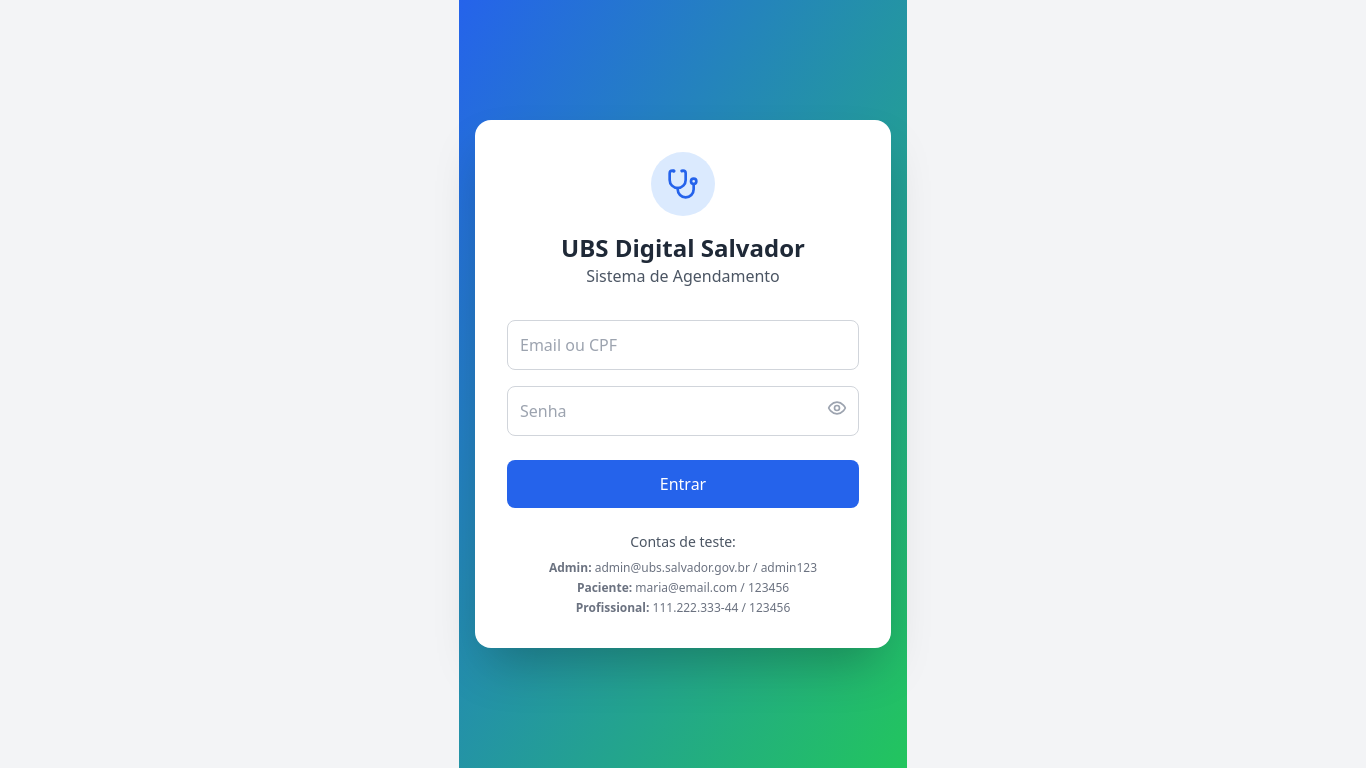
Test: Agendamento de Consultas - UBS Digital Salvador › Agendamento pelo Paciente › Deve permitir navegar para trás no fluxo
Type "maria@email.com" into the field with test id "input-email".
click(683, 345); type("maria@email.com")  # box [507,320,859,370]
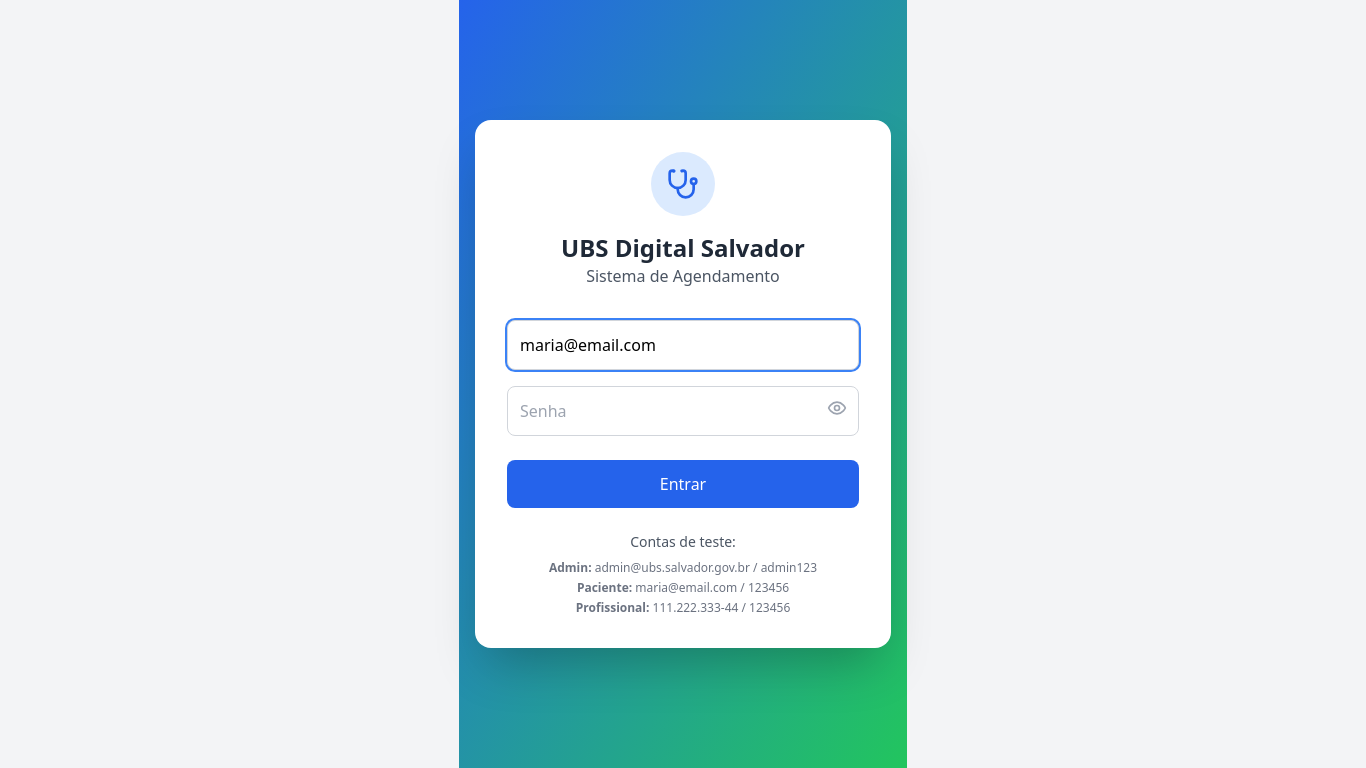
Type "123456" into the password field with test id "input-password".
click(683, 411); type("123456")  # box [507,386,859,436]
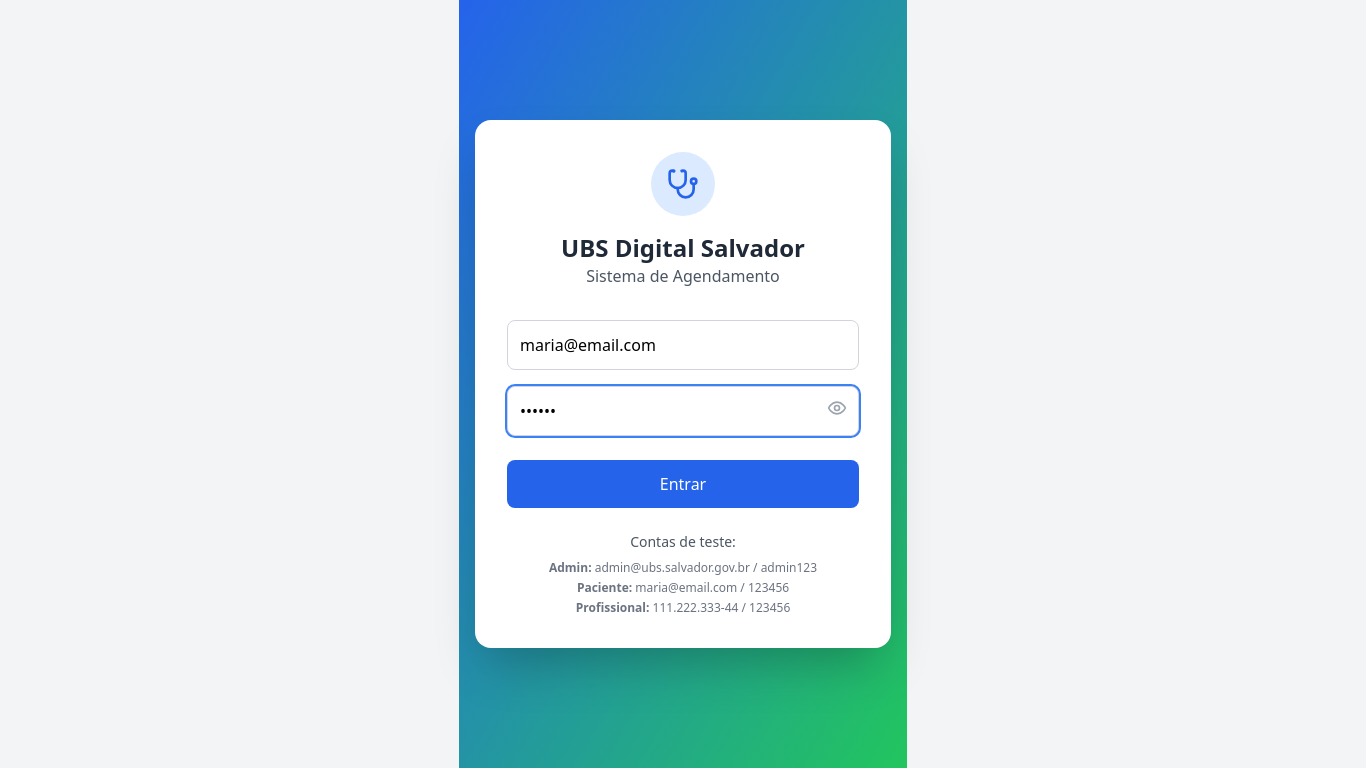
Click the button with test id "btn-login".
click(683, 484)  # box [507,460,859,508]
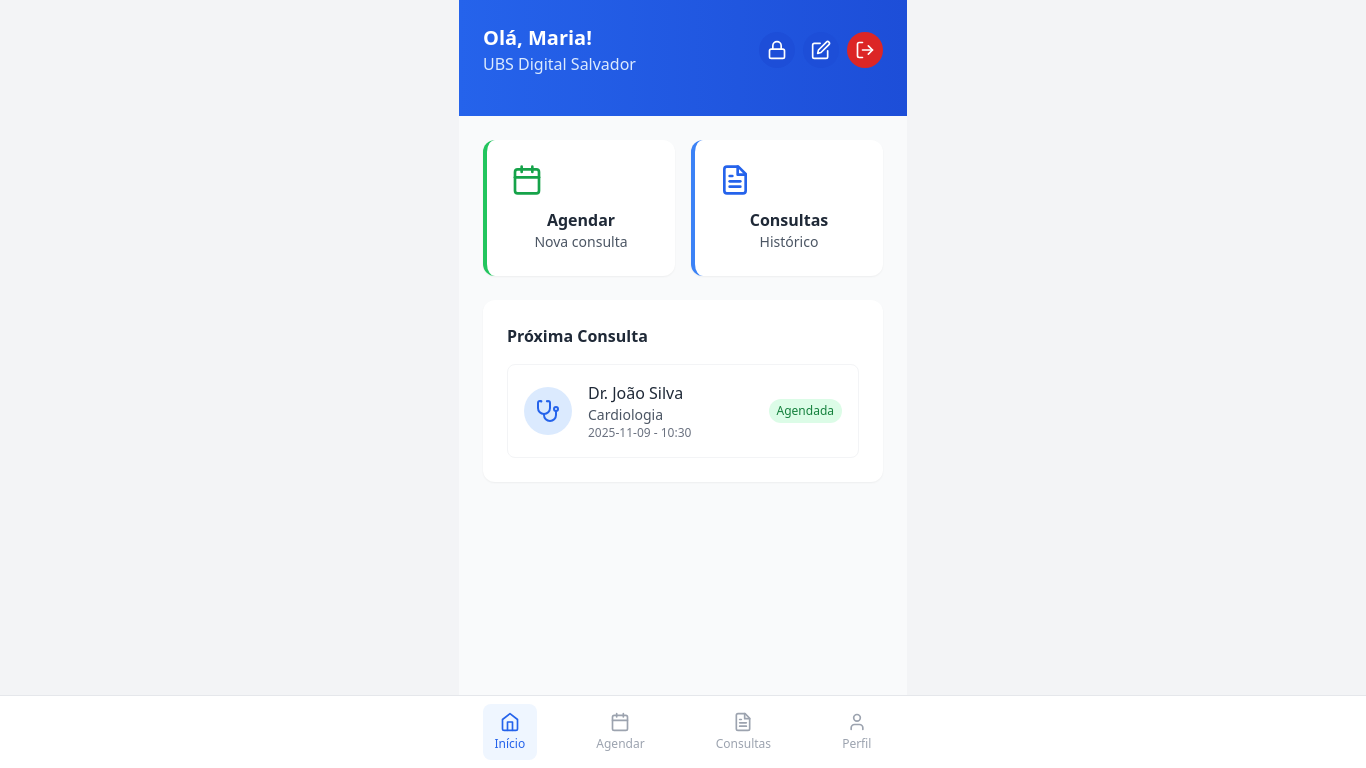
Now the heading "Olá, Maria!" is shown, box [483,24,592,51]
Click the button with test id "btn-schedule".
click(579, 208)  # box [483,140,675,276]
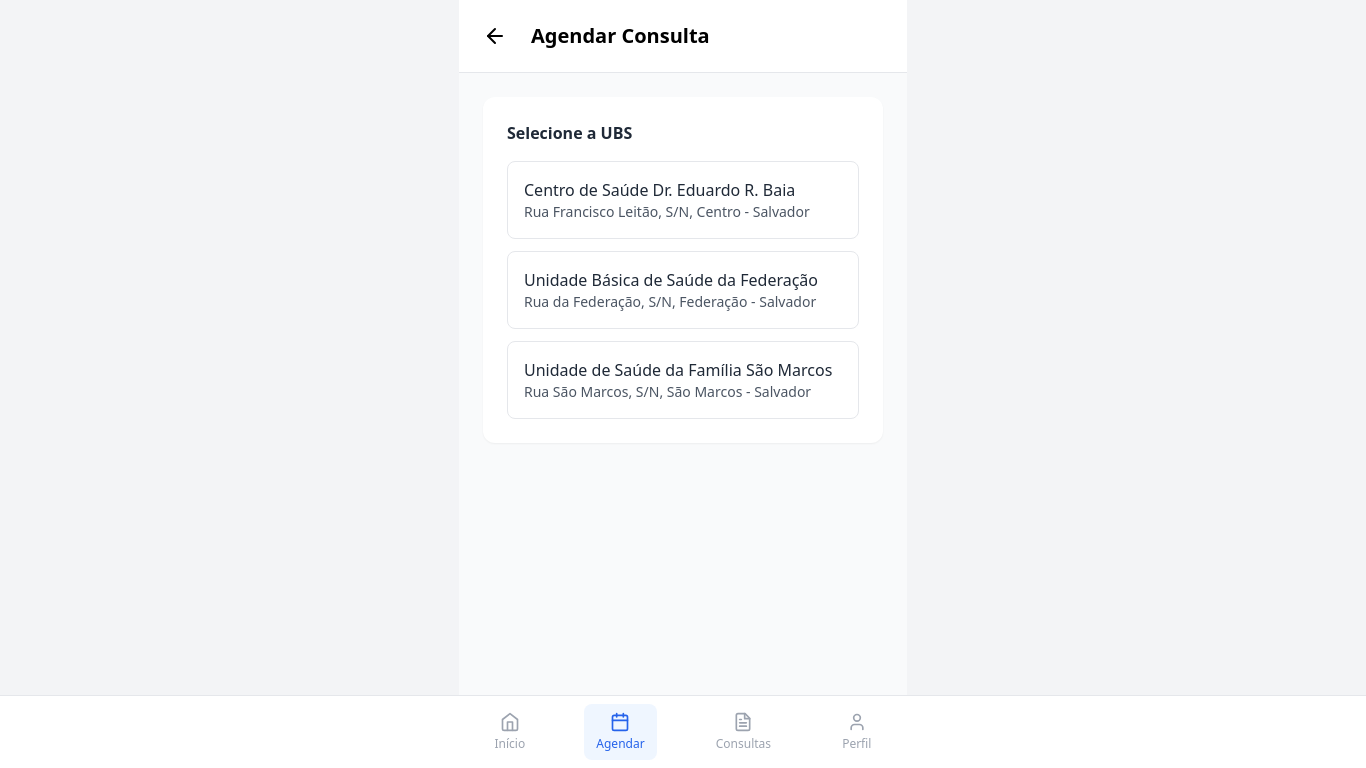
Click the button "Unidade Básica de Saúde da Federação".
click(683, 290)  # box [507,251,859,329]
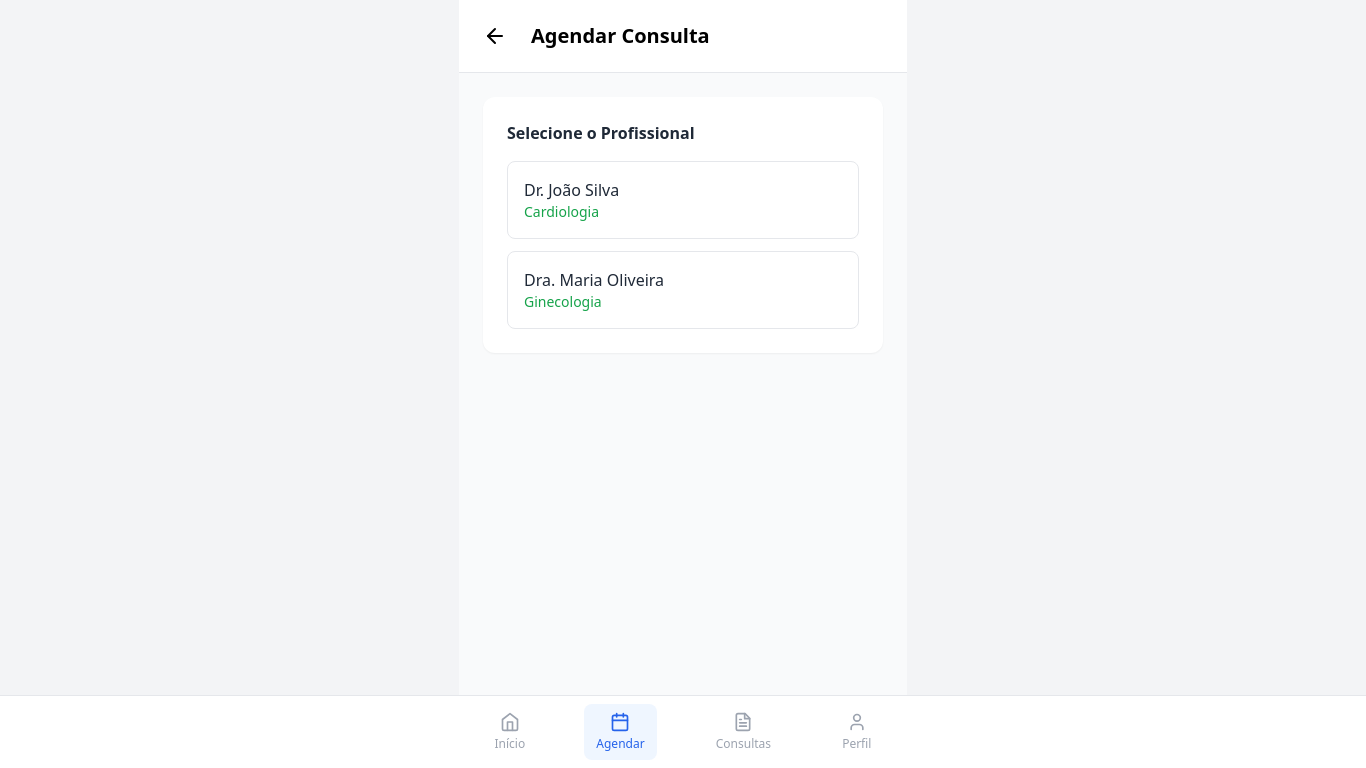
Click the 1st button.
click(495, 36)  # box [475,16,515,56]
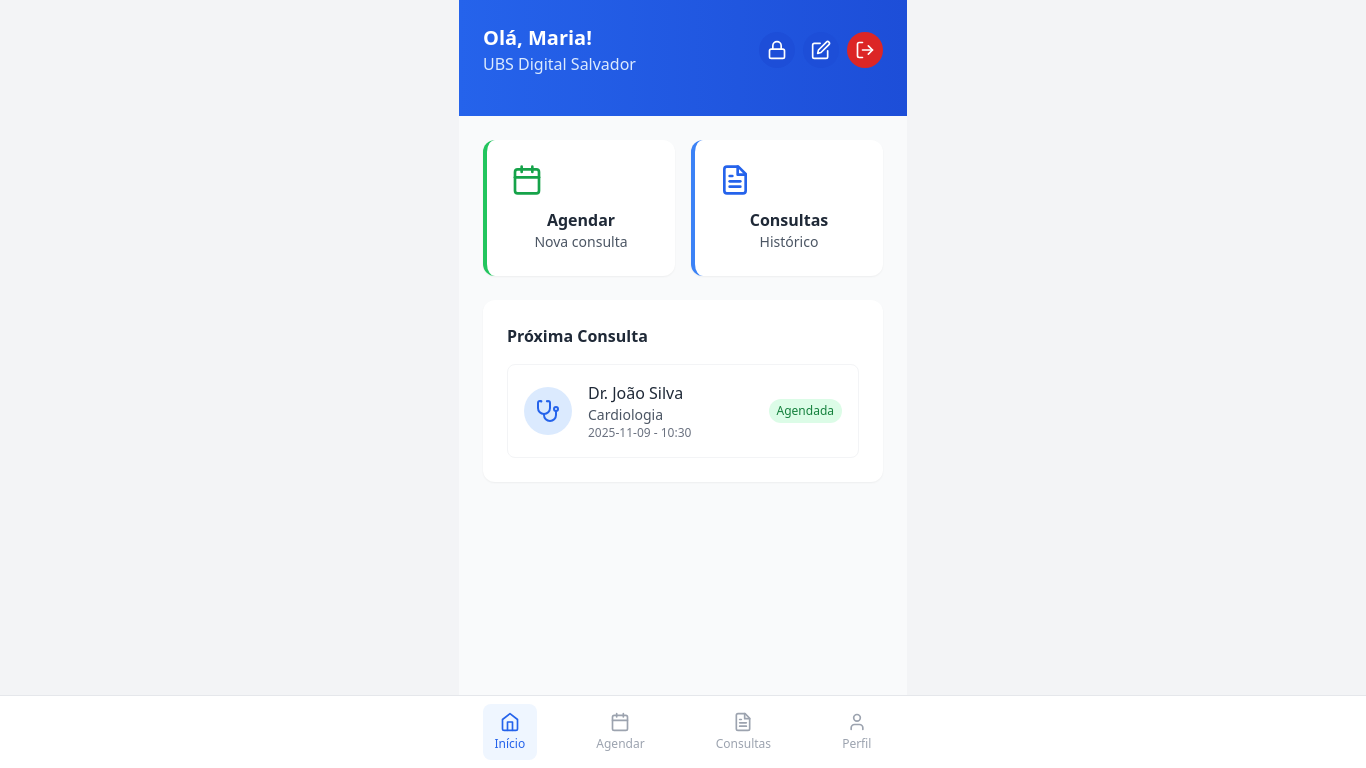
Now the heading "Olá, Maria!" is shown, box [483,24,592,51]
